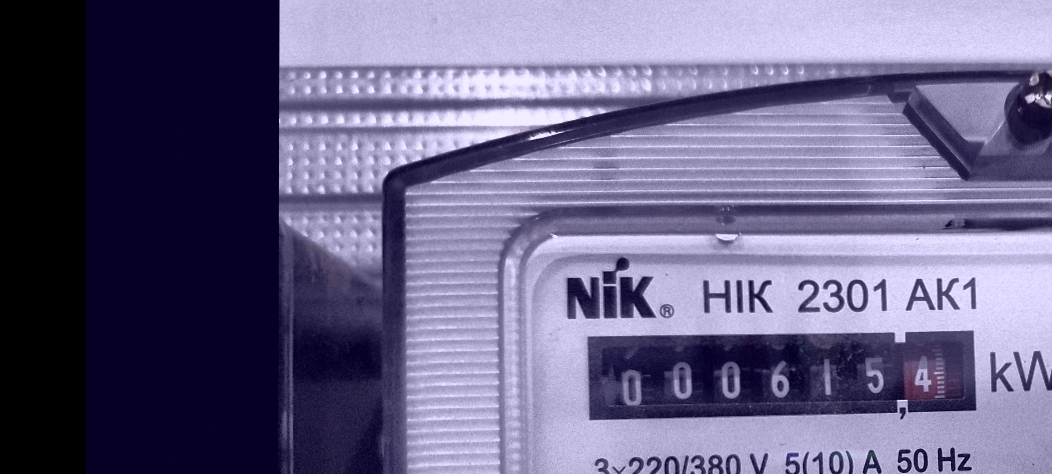0: (718, 358, 743, 400), (619, 365, 644, 406), (671, 359, 694, 399)
1: (821, 355, 834, 397)
4: (913, 352, 932, 393)
5: (863, 353, 886, 395)
6: (768, 357, 792, 398)
screen: (574, 317, 989, 432)
